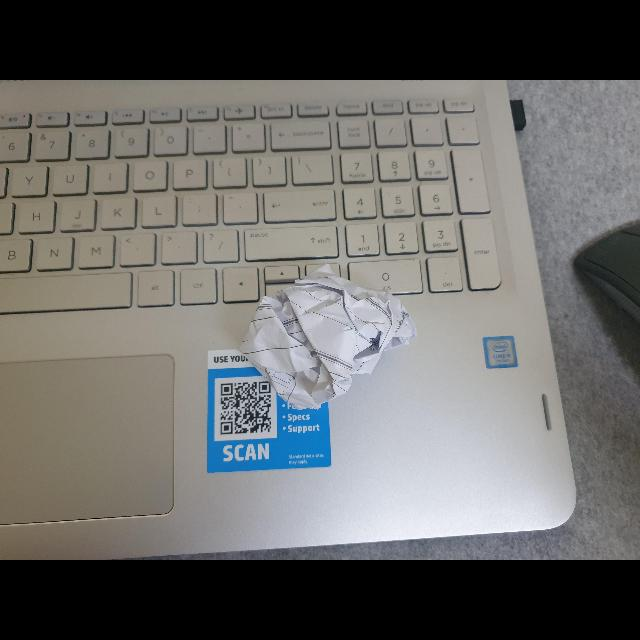trash: (234, 259, 420, 423)
